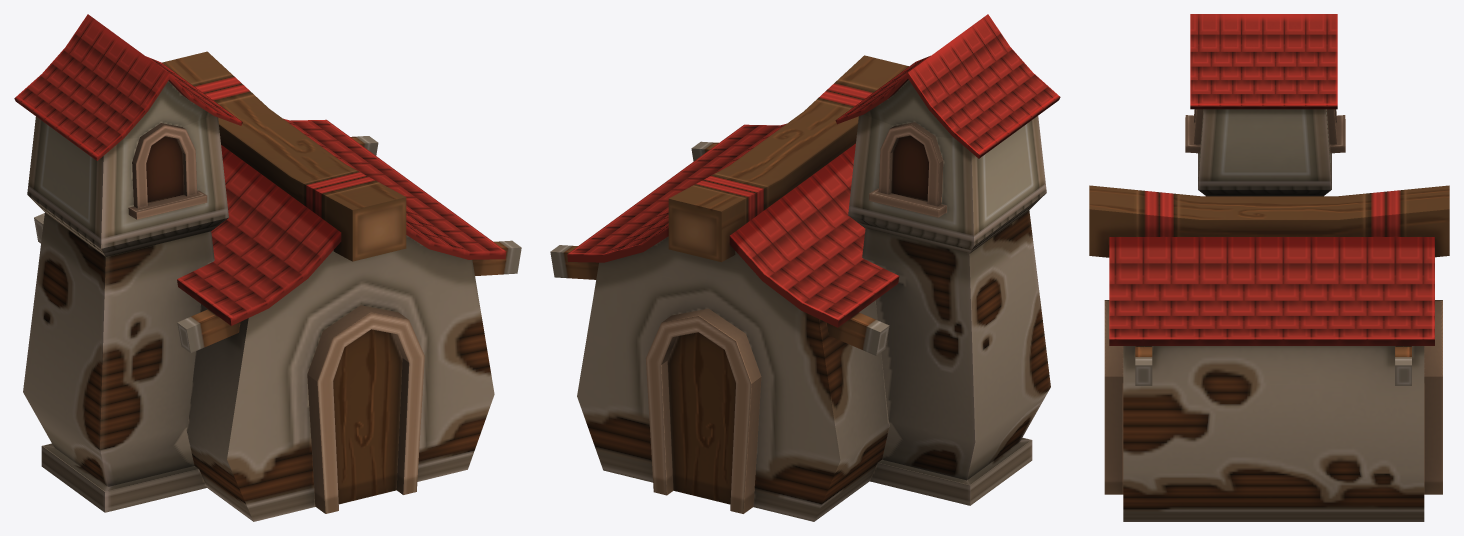
Rendered from Barrack_Level1.FBX.
The picture shows the model from 3 angles, left to right: view 1: azimuth 30°, elevation 25°; view 2: azimuth 150°, elevation 25°; view 3: azimuth 270°, elevation 25°; orthographic projection. The views are drawn at different scales.
Visible parts, largest first — view 1: Barrack_Level1; view 2: Barrack_Level1; view 3: Barrack_Level1.
Boxes of the visible parts, left/top/right/bottom form: Barrack_Level1: left=14, top=14, right=521, bottom=521; Barrack_Level1: left=550, top=14, right=1060, bottom=521; Barrack_Level1: left=1089, top=14, right=1449, bottom=521.
Size of the model in its own units: 74.85 by 78.23 by 65.14.
